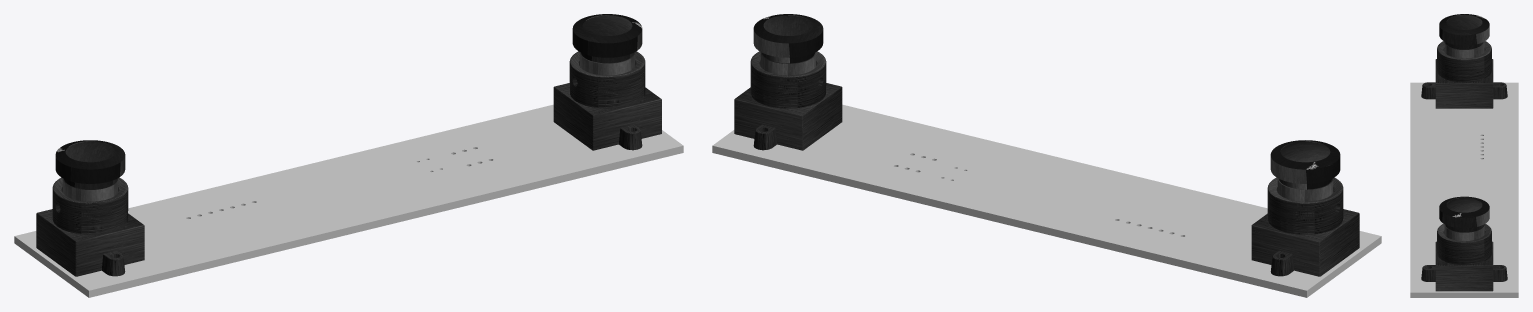
Rendered from ovc3_external_camera.dae.
3 renders of one model, left to right at view 1: azimuth 30°, elevation 25°; view 2: azimuth 150°, elevation 25°; view 3: azimuth 270°, elevation 25°, orthographic. The views are drawn at different scales.
Parts seen in each view (by area): view 1: node1, node3, node0, node2, node4; view 2: node1, node3, node0, node2, node4; view 3: node1, node0, node3, node2, node4.
Part boxes in pixels (x1=…): node1: x1=14, y1=104, x2=683, y2=297; node3: x1=36, y1=177, x2=144, y2=276; node0: x1=553, y1=51, x2=661, y2=150; node2: x1=55, y1=140, x2=125, y2=201; node4: x1=572, y1=14, x2=642, y2=75; node1: x1=712, y1=104, x2=1381, y2=297; node3: x1=1251, y1=177, x2=1359, y2=276; node0: x1=734, y1=51, x2=842, y2=150; node2: x1=1270, y1=140, x2=1340, y2=201; node4: x1=753, y1=14, x2=823, y2=75; node1: x1=1410, y1=82, x2=1518, y2=297; node0: x1=1421, y1=223, x2=1507, y2=291; node3: x1=1421, y1=41, x2=1507, y2=108; node2: x1=1439, y1=14, x2=1489, y2=58; node4: x1=1439, y1=196, x2=1489, y2=241.
Size of the model in its own units: 0.138 by 0.03 by 0.0251.
